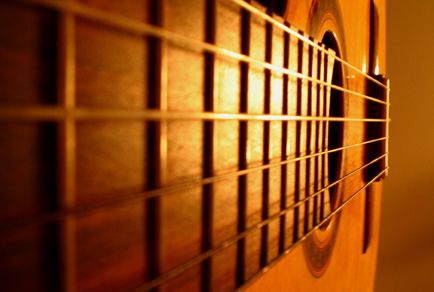guitar: (1, 1, 392, 291)
